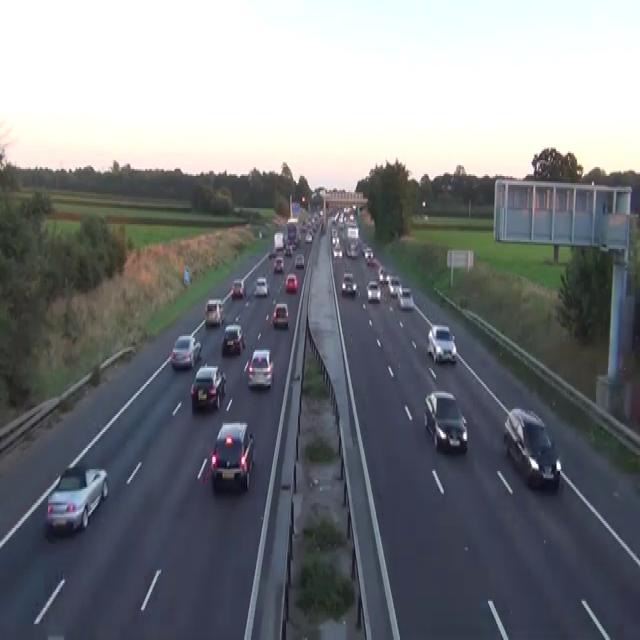Car: (503, 407, 561, 489), (45, 464, 108, 535), (210, 421, 254, 491), (423, 389, 467, 454), (190, 362, 226, 410), (245, 348, 274, 388), (427, 323, 456, 362), (170, 334, 201, 370), (221, 324, 245, 356), (204, 299, 225, 325), (272, 302, 289, 327), (398, 286, 414, 310), (341, 272, 357, 295), (366, 279, 381, 302), (254, 275, 269, 297), (388, 275, 401, 297), (231, 279, 245, 299), (285, 272, 297, 292), (346, 240, 359, 258), (378, 266, 389, 284), (273, 256, 283, 272), (362, 244, 373, 258), (332, 244, 343, 258), (294, 254, 304, 267), (342, 270, 353, 281), (366, 252, 375, 265), (304, 231, 313, 242), (284, 244, 292, 256), (378, 267, 384, 281), (268, 249, 276, 258), (331, 235, 338, 245), (258, 228, 262, 238), (319, 208, 323, 217)
Truck: (286, 217, 299, 247), (273, 231, 284, 251)
